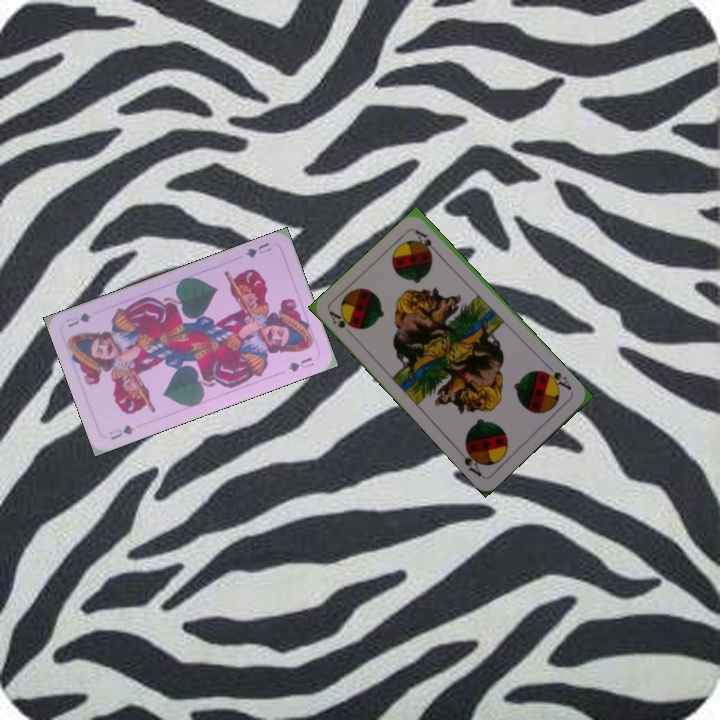GU: (241, 238, 274, 260), (105, 421, 137, 442)
SA: (539, 362, 574, 393), (325, 307, 359, 332)
